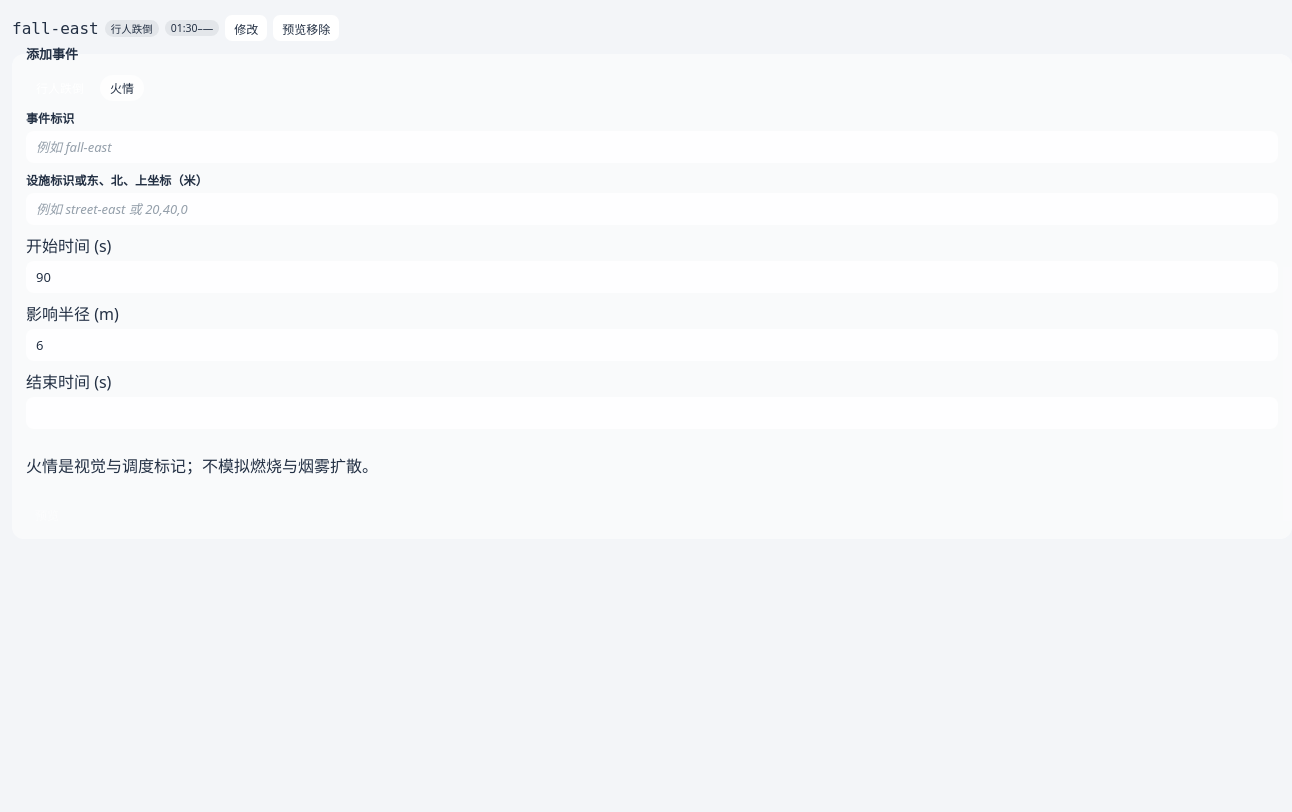
Test: renders only Chinese numeric validation after touch (T4-R2-014)
Replace the text in the field labelled "开始时间 (s)" with "-1" at (652, 277), box [26,261,1278,293]
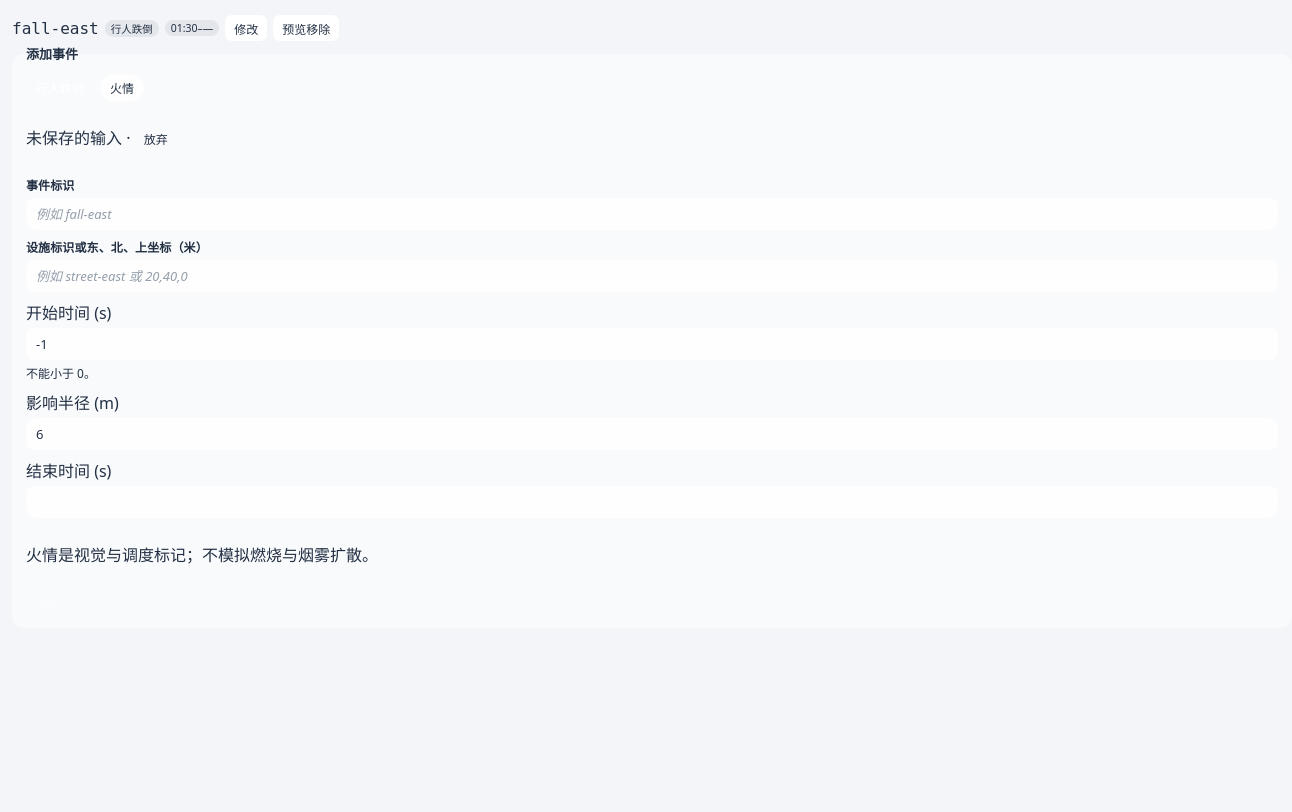
Expected: the number of messages is 1, [26,364,96,382]
Expected: the message reads "不能小于 0。", [26,364,96,382]
